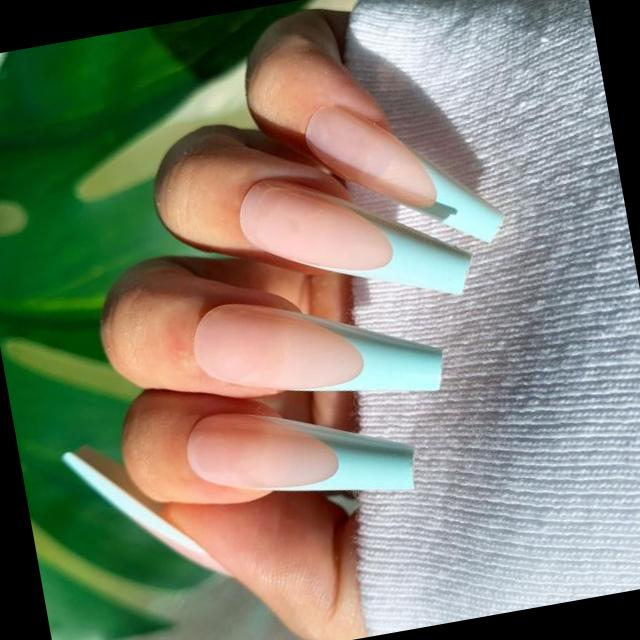Nail: (305, 105, 503, 241), (239, 180, 469, 293), (193, 302, 442, 389), (63, 445, 227, 571), (187, 412, 413, 489)
